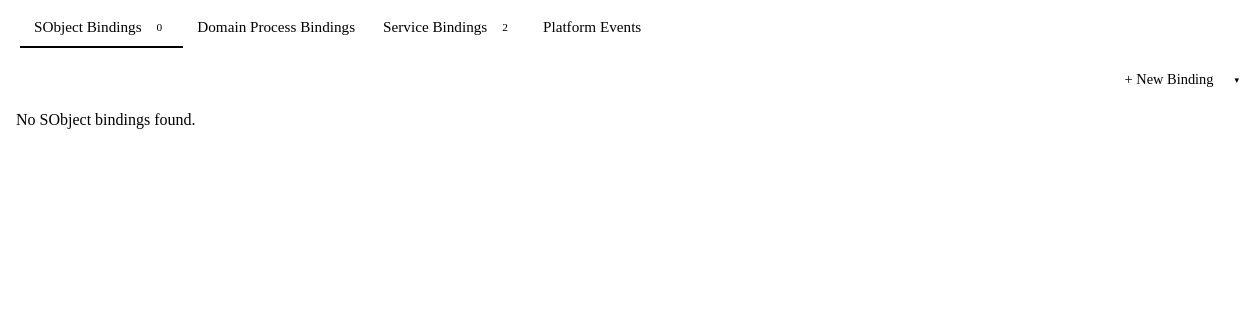
App — Application Factory explorer › renders the tie banner once for two Service rows tied on priority, with RESOLVES TODAY / MAY WIN INSTEAD chips
The image size is (1256, 310).
Click the tab "Service Bindings 2": (449, 28) top-left (369, 8), bottom-right (529, 48)
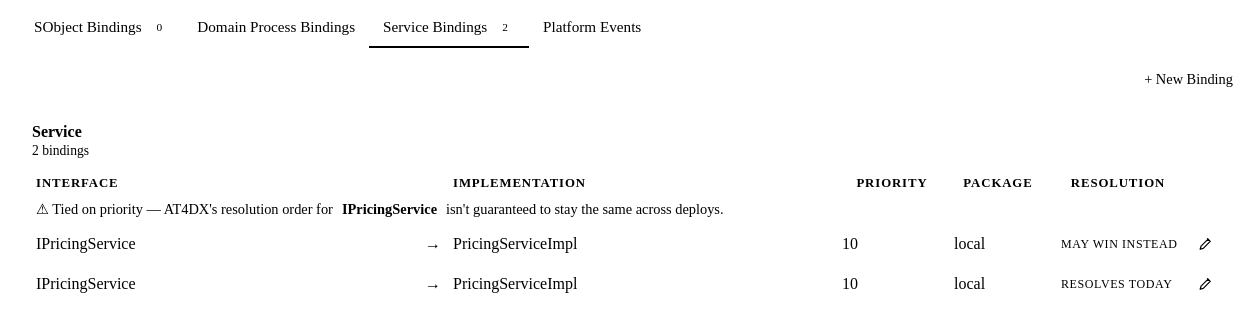
Expected: the number of elements with class "af-tie-banner" is 1, top-left (36, 201), bottom-right (724, 217)
Expected: the text "Resolves today" is shown, top-left (1054, 274), bottom-right (1179, 294)
Expected: the text "May win instead" is shown, top-left (1054, 234), bottom-right (1185, 254)
